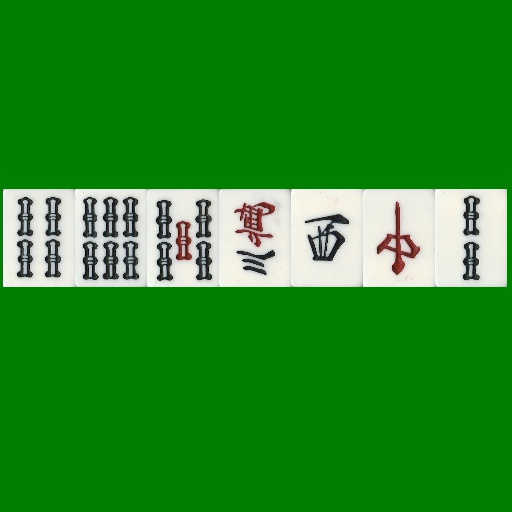2s: (435, 189, 507, 287)
3m: (219, 189, 291, 287)
4s: (3, 189, 75, 287)
5s: (147, 189, 219, 287)
6s: (75, 189, 147, 287)
tyun: (363, 189, 435, 287)
west: (291, 189, 363, 287)
